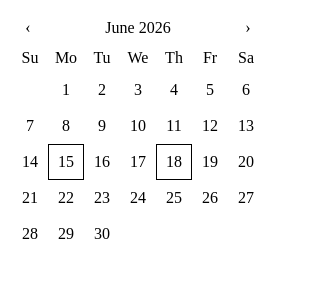
Test: Calendar › previous/next month buttons change the displayed month
Click the button named "Next month" at (248, 28), box [232,12,264,44]
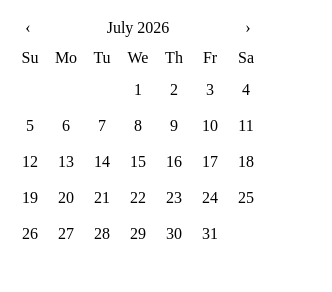
expect the heading "July 2026" is shown: met, box [107,19,169,36]
Click the button named "Previous month" at (28, 28), box [12,12,44,44]
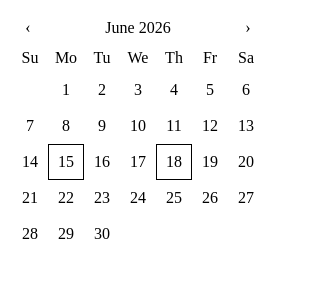
Click the button named "Previous month" at (28, 28), box [12,12,44,44]
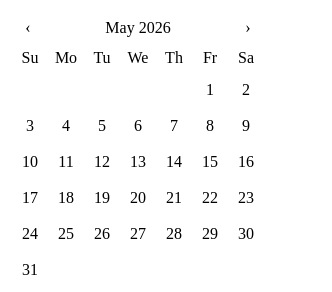
expect the heading "May 2026" is shown: met, box [105,19,171,36]
